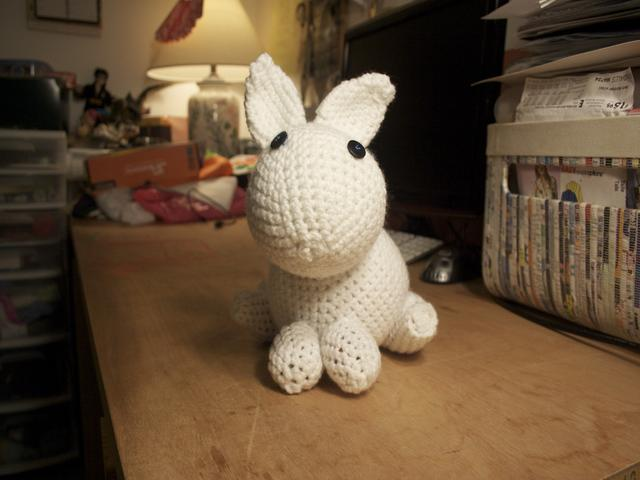rabbit: (200, 43, 462, 404)
